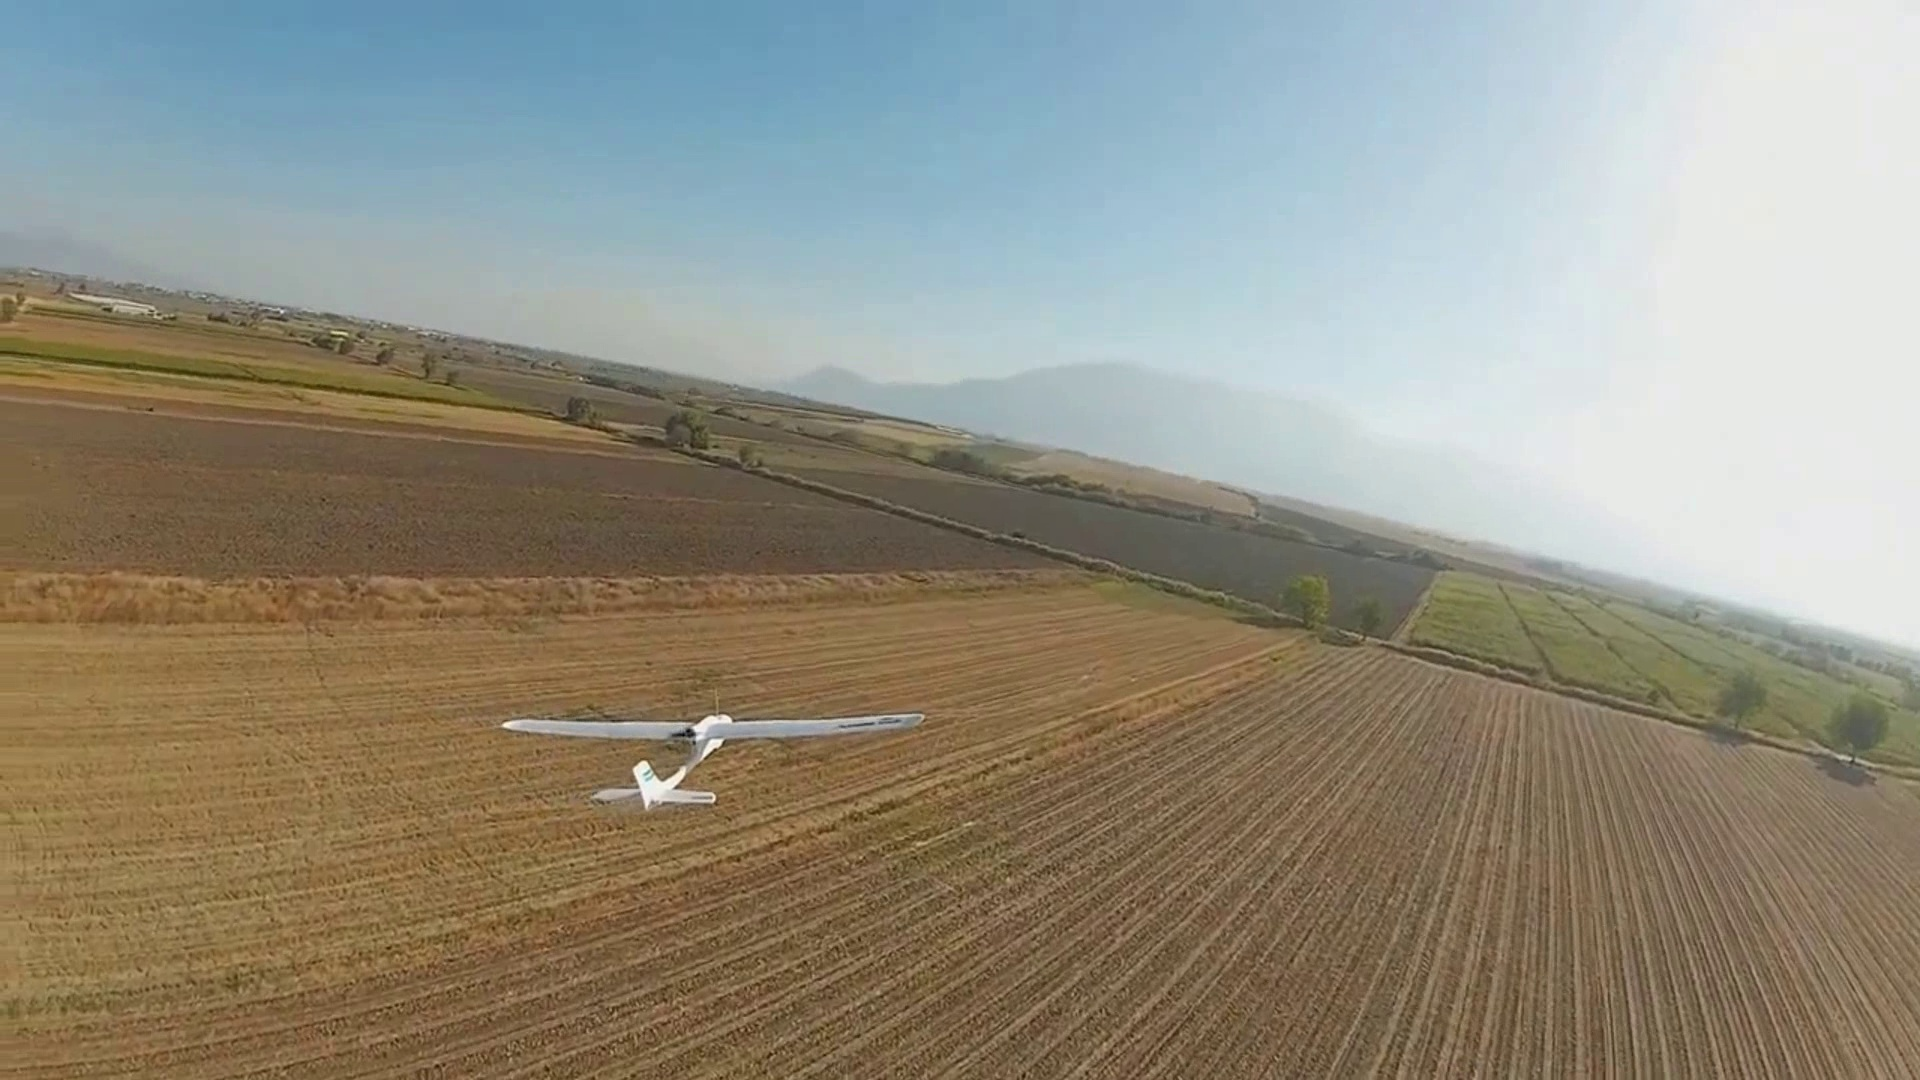airplane: (498, 708, 928, 810)
